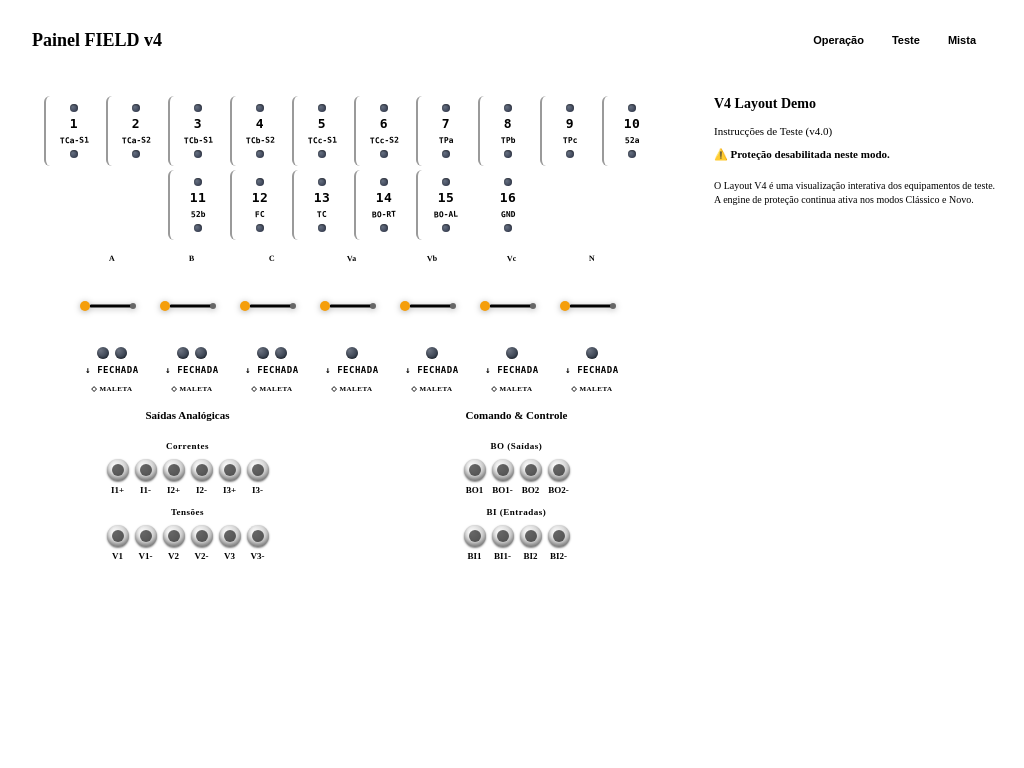
Scenario: Layout Novo v4 — Complete E2E Tests › Modo toggle — Operação/Teste/Mista › Modo "Operação" fecha todas as alavancas
Click the button with class "mode-btn" showing "Teste": (906,40) [880, 28, 932, 52]
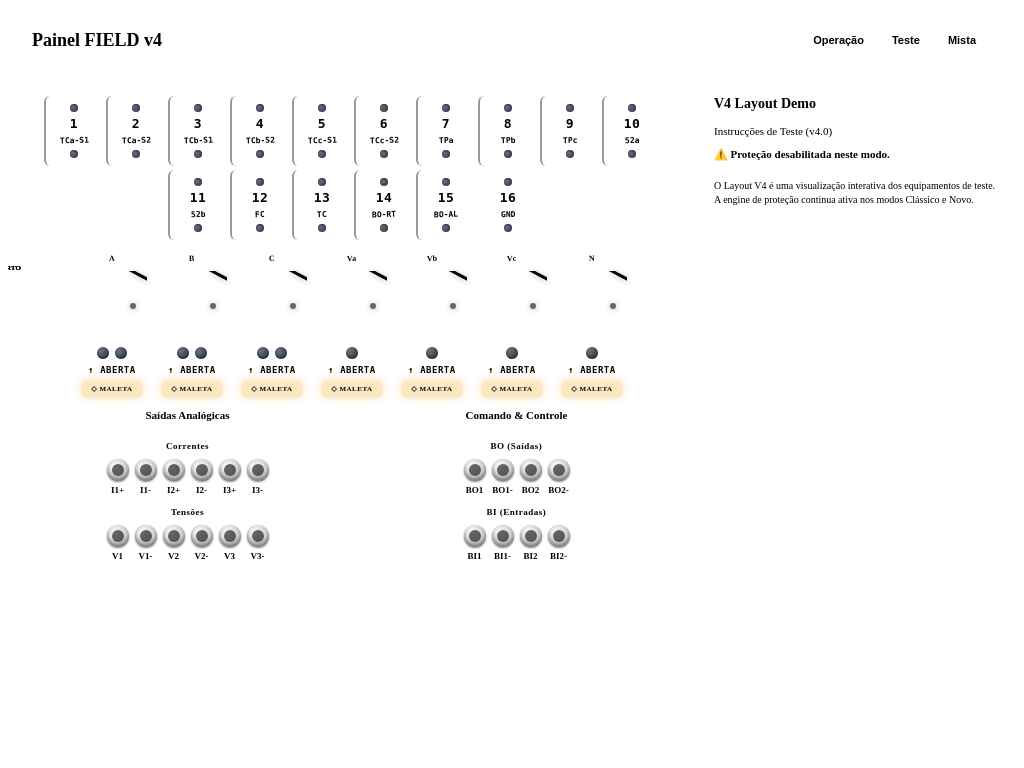
Click the button with class "mode-btn" showing "Operação": (839,40) [801, 28, 876, 52]
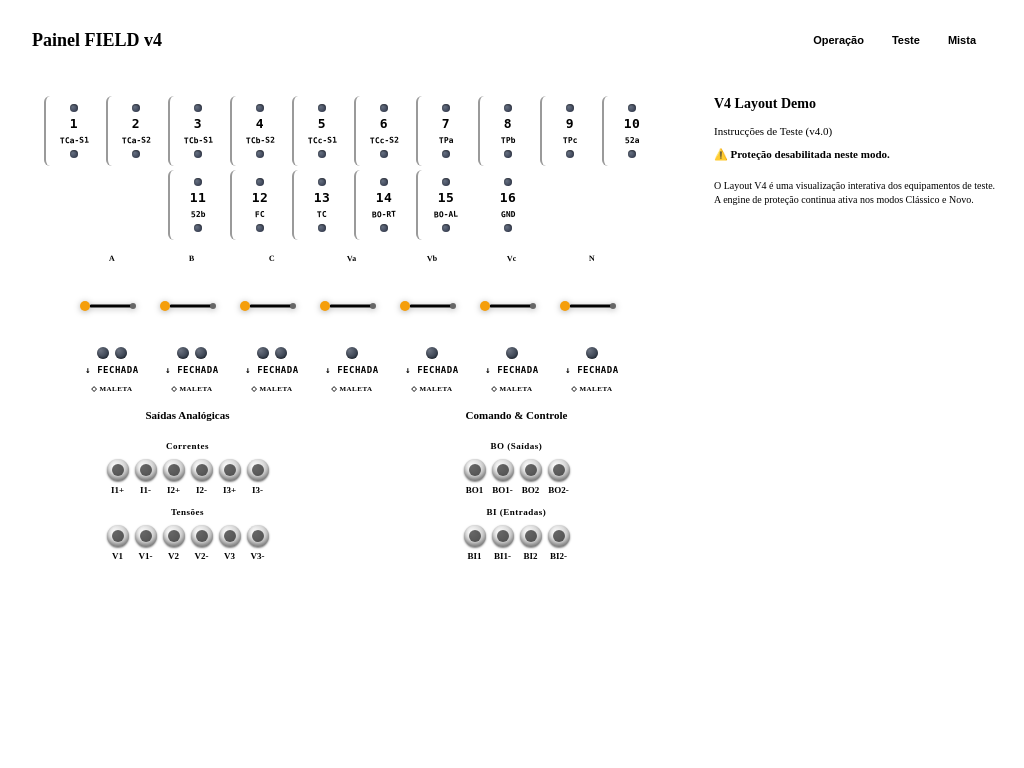
expect the text with class "lever-state" shows "FECHADA": met, box [85, 365, 139, 375]
